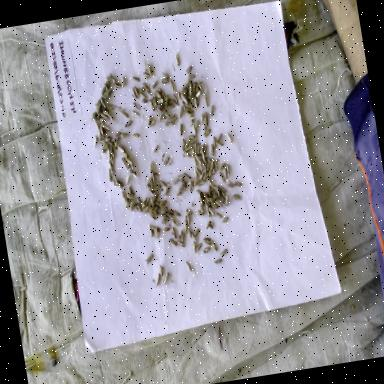pbw: (178, 90, 190, 106), (152, 272, 162, 290), (168, 113, 180, 128), (162, 270, 172, 287), (174, 180, 186, 194), (222, 191, 232, 207), (145, 180, 155, 196), (119, 188, 128, 205), (178, 227, 187, 244), (124, 196, 134, 211), (143, 252, 155, 264), (182, 218, 190, 236), (158, 204, 170, 216), (186, 80, 194, 98), (202, 202, 210, 220), (122, 172, 132, 186), (161, 153, 171, 167), (110, 171, 120, 185), (170, 215, 180, 229), (178, 80, 188, 94), (196, 190, 204, 207), (180, 176, 188, 193), (201, 127, 212, 139), (231, 176, 242, 188), (164, 209, 174, 222), (182, 135, 192, 148), (128, 198, 136, 214), (142, 80, 150, 96), (176, 103, 184, 119), (152, 186, 160, 202), (208, 102, 216, 118), (198, 82, 206, 98), (119, 75, 128, 89), (143, 196, 152, 210), (157, 84, 166, 98), (193, 152, 202, 166), (202, 235, 213, 246), (94, 100, 102, 115), (148, 98, 156, 113), (213, 138, 223, 150), (183, 178, 193, 190), (192, 164, 202, 176), (206, 164, 214, 179), (212, 256, 222, 268), (100, 122, 110, 134), (130, 108, 140, 120), (167, 236, 177, 248), (150, 78, 160, 90), (182, 150, 192, 162), (150, 223, 160, 235), (148, 210, 158, 222), (145, 63, 154, 76), (215, 129, 224, 142), (129, 167, 138, 180), (132, 83, 139, 99), (225, 130, 233, 144), (213, 157, 220, 173), (168, 80, 176, 94), (202, 111, 209, 127), (224, 161, 231, 177), (210, 238, 218, 252), (106, 168, 113, 184), (191, 122, 198, 138), (185, 260, 193, 274), (120, 156, 128, 170), (150, 96, 157, 112), (148, 116, 156, 130), (211, 134, 218, 150), (198, 142, 206, 156), (146, 160, 154, 174), (105, 146, 112, 162), (91, 134, 99, 148), (162, 225, 172, 236), (175, 238, 185, 249), (123, 118, 134, 128), (119, 108, 129, 119), (100, 92, 110, 103), (209, 200, 219, 211), (89, 110, 99, 121), (201, 246, 212, 256), (125, 191, 136, 201), (142, 68, 151, 80), (158, 198, 167, 210), (219, 246, 228, 258), (159, 176, 168, 188), (218, 182, 226, 195), (218, 160, 226, 173), (184, 213, 192, 226), (130, 130, 140, 140), (156, 102, 166, 112), (100, 144, 110, 154), (130, 74, 140, 84), (191, 180, 201, 190), (232, 192, 242, 202), (214, 210, 224, 220), (188, 136, 198, 146), (160, 70, 170, 80), (116, 144, 126, 154), (119, 131, 130, 140), (151, 204, 160, 215), (184, 63, 193, 74), (172, 208, 181, 219), (163, 185, 172, 196), (170, 227, 177, 241), (210, 162, 217, 176), (188, 179, 195, 193), (184, 76, 191, 90), (130, 86, 137, 100), (191, 240, 198, 254), (204, 218, 212, 230), (100, 84, 108, 96), (192, 120, 200, 132), (108, 72, 116, 84), (204, 92, 210, 108), (182, 168, 190, 180), (99, 96, 107, 108), (204, 158, 210, 174), (106, 112, 114, 124), (192, 164, 198, 180), (214, 198, 222, 210), (140, 195, 148, 207), (188, 114, 195, 127), (191, 80, 198, 93), (188, 113, 198, 122), (220, 215, 230, 224), (151, 171, 157, 186), (194, 187, 204, 196), (193, 208, 203, 217), (148, 223, 154, 238), (152, 90, 162, 99), (99, 125, 105, 140), (112, 81, 122, 90), (99, 111, 108, 121), (156, 109, 162, 124), (164, 118, 173, 128), (201, 116, 207, 131), (170, 177, 180, 186), (153, 226, 159, 241), (92, 98, 102, 107), (141, 204, 150, 214), (107, 158, 113, 173), (152, 183, 162, 192), (183, 100, 192, 110), (103, 80, 112, 90), (152, 143, 160, 154), (206, 176, 213, 188), (195, 240, 202, 252), (192, 96, 198, 110), (158, 263, 164, 277), (136, 194, 143, 206), (128, 158, 134, 172), (202, 144, 209, 156), (200, 150, 206, 164), (218, 170, 224, 184), (172, 94, 179, 106), (190, 144, 196, 158), (94, 116, 100, 130), (96, 128, 102, 142), (145, 176, 154, 185), (98, 137, 107, 146), (184, 144, 193, 153), (166, 97, 175, 106), (138, 84, 146, 94), (166, 102, 176, 110), (113, 138, 121, 148), (162, 110, 170, 120), (140, 91, 148, 101), (160, 216, 170, 224), (105, 134, 113, 144), (193, 88, 201, 98), (106, 88, 114, 98), (118, 151, 128, 159), (112, 179, 122, 187), (184, 109, 192, 119), (202, 192, 210, 202), (184, 206, 192, 216), (192, 228, 200, 238), (166, 209, 176, 217), (190, 230, 196, 243), (178, 123, 184, 136), (174, 54, 180, 67), (198, 204, 204, 217), (206, 184, 213, 195), (208, 206, 215, 217), (216, 185, 221, 200), (186, 105, 194, 114), (212, 190, 220, 199), (156, 96, 165, 104), (149, 196, 155, 208), (194, 142, 200, 154), (209, 144, 215, 156), (110, 140, 116, 152), (140, 98, 149, 106), (160, 77, 169, 85), (187, 72, 196, 80), (146, 114, 152, 126), (103, 74, 112, 82), (181, 100, 187, 112), (180, 140, 186, 152), (112, 130, 121, 138), (110, 148, 116, 160), (204, 155, 212, 164), (132, 100, 139, 110), (223, 166, 228, 180), (220, 194, 226, 205), (164, 95, 170, 106), (199, 113, 204, 126), (176, 174, 184, 182), (98, 116, 106, 124), (198, 179, 206, 187), (175, 190, 183, 198), (202, 172, 208, 182), (228, 180, 234, 190), (124, 154, 130, 164), (192, 156, 198, 166), (212, 184, 219, 192), (201, 160, 206, 170), (210, 158, 214, 170), (188, 134, 194, 142), (176, 89, 180, 100)
